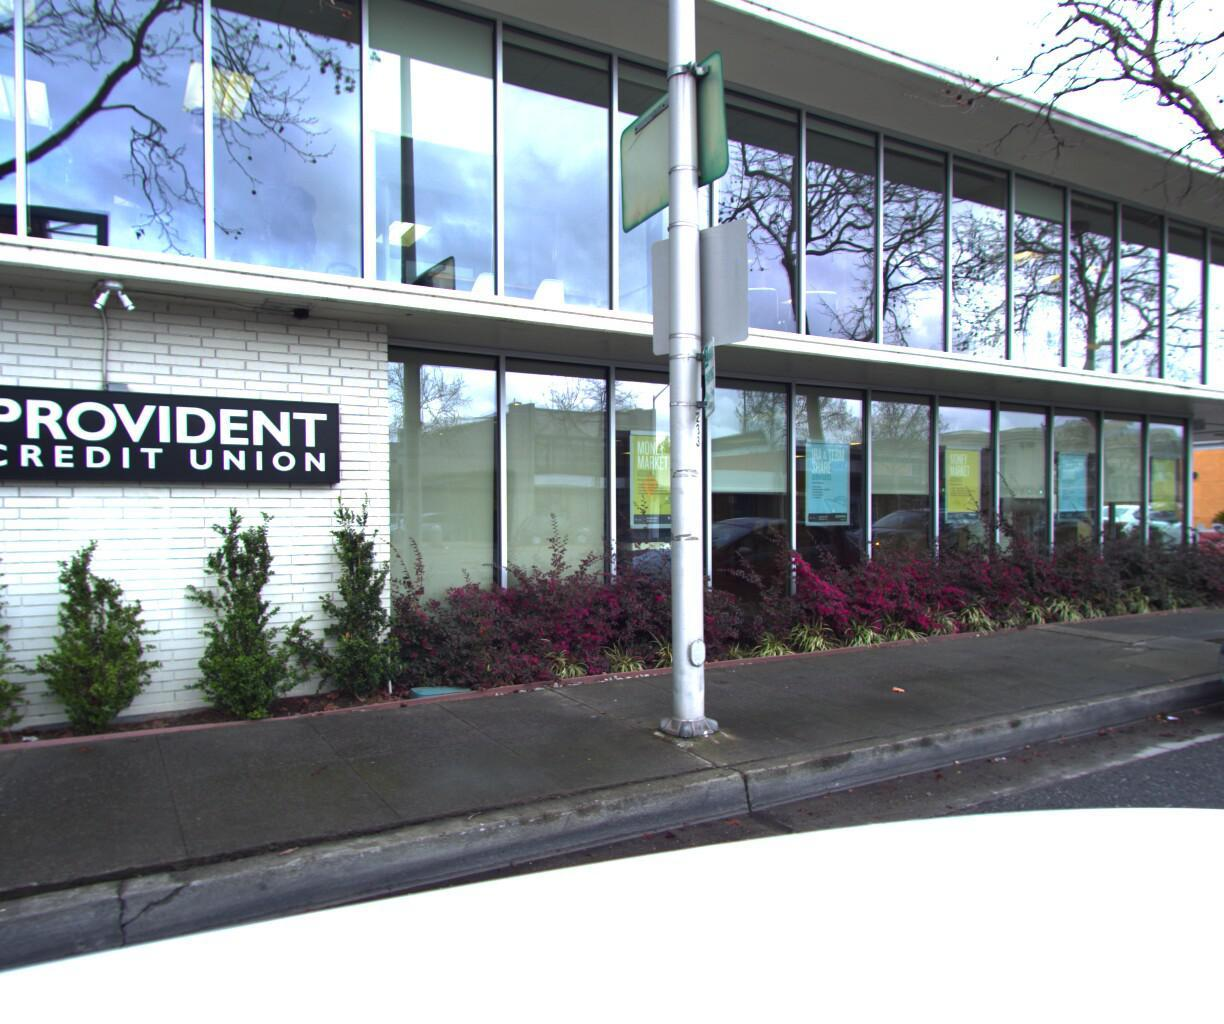car: (1189, 506, 1224, 766)
